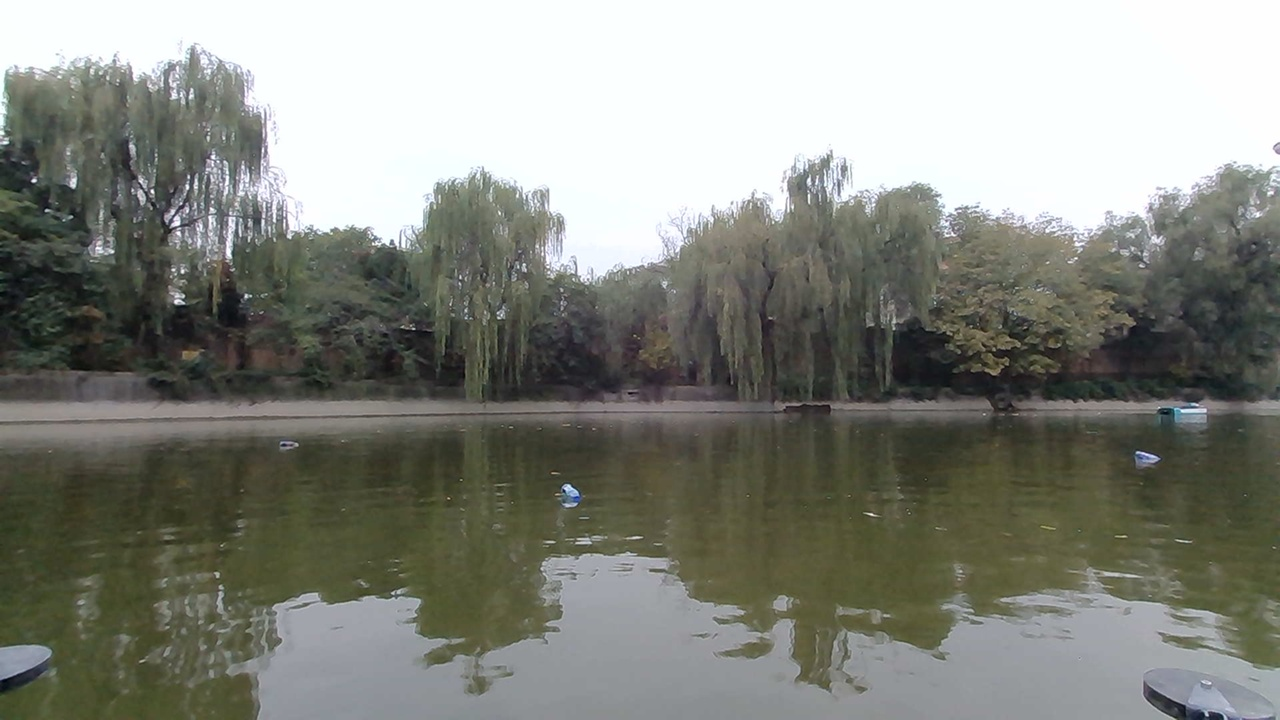bottle: (545, 477, 595, 514), (1123, 439, 1168, 473), (272, 421, 304, 455)
